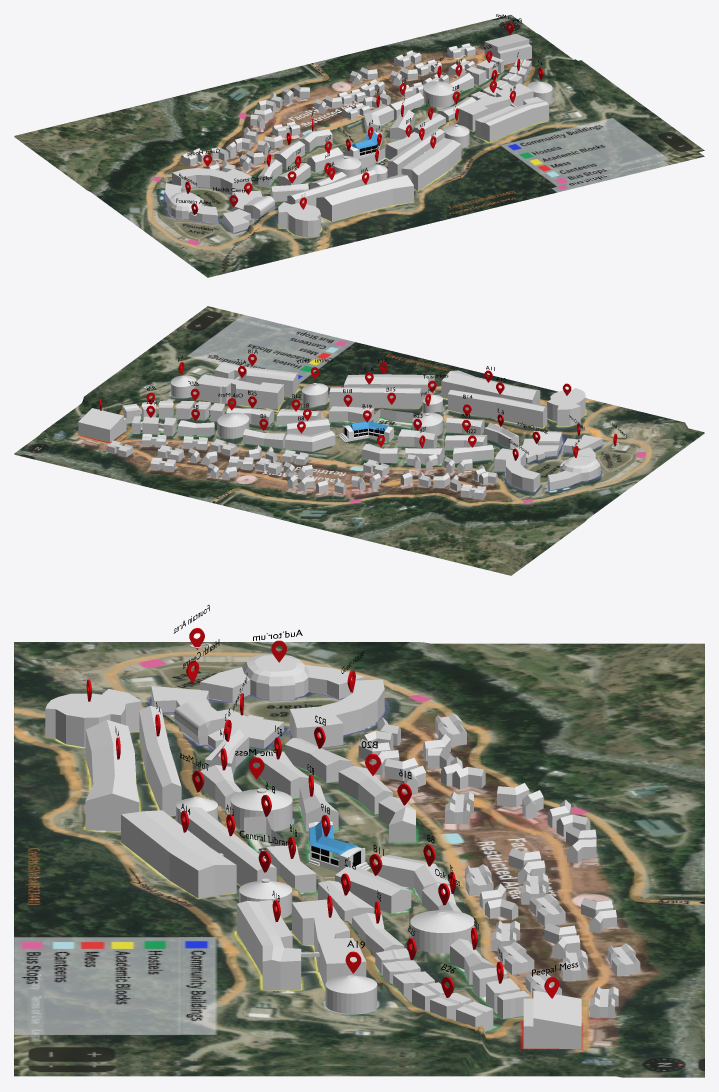
Rendered from mapMI.glb.
The picture shows the model from 3 angles, top to bottom: view 1: azimuth 30°, elevation 25°; view 2: azimuth 150°, elevation 25°; view 3: azimuth 270°, elevation 25°; orthographic projection. The views are drawn at different scales.
Visible parts, largest first — view 1: Dharti, Dharti.002, A17+A18, A11, A13 + A14, Guest House, Auditorium, A9, Peepal Mess, A10, Plane, Oak Mess (+15 smaller); view 2: Dharti, Dharti.002, A17+A18, A13 + A14, A10, A11, Auditorium, Peepal Mess, A9, Guest House, Plane, B19 (+22 smaller); view 3: Dharti, Dharti.002, A13 + A14, A17+A18, Auditorium, A11, Guest House, A9, Peepal Mess, Plane, A10, Oak Mess (+29 smaller).
Part boxes in pixels (bbox=[...]): Dharti: bbox=[14, 33, 704, 276]; Dharti.002: bbox=[14, 15, 704, 277]; A17+A18: bbox=[458, 83, 548, 141]; A11: bbox=[316, 174, 413, 221]; A13 + A14: bbox=[388, 128, 461, 190]; Guest House: bbox=[172, 168, 251, 195]; Auditorium: bbox=[165, 183, 217, 223]; A9: bbox=[278, 202, 320, 237]; Peepal Mess: bbox=[484, 34, 531, 64]; A10: bbox=[287, 169, 376, 206]; Plane: bbox=[234, 190, 274, 219]; Oak Mess: bbox=[423, 81, 454, 107]; Dharti: bbox=[14, 306, 704, 575]; Dharti.002: bbox=[14, 433, 704, 574]; A17+A18: bbox=[195, 362, 298, 409]; A13 + A14: bbox=[329, 374, 434, 408]; A10: bbox=[448, 390, 547, 427]; A11: bbox=[441, 370, 540, 405]; Auditorium: bbox=[548, 447, 600, 490]; Peepal Mess: bbox=[78, 408, 126, 442]; A9: bbox=[547, 388, 585, 426]; Guest House: bbox=[494, 448, 540, 491]; Plane: bbox=[512, 431, 562, 462]; B19: bbox=[339, 421, 393, 442]; Dharti: bbox=[14, 642, 704, 1077]; Dharti.002: bbox=[14, 643, 704, 1076]; A13 + A14: bbox=[121, 806, 276, 898]; A17+A18: bbox=[237, 899, 366, 990]; Auditorium: bbox=[200, 654, 364, 702]; A11: bbox=[85, 719, 139, 831]; Guest House: bbox=[289, 679, 384, 747]; A9: bbox=[45, 689, 141, 747]; Peepal Mess: bbox=[523, 990, 581, 1049]; Plane: bbox=[174, 701, 283, 748]; A10: bbox=[139, 705, 181, 815]; Oak Mess: bbox=[410, 910, 475, 953].
Size of the model in its own units: 625 by 63.61 by 422.
Materials: 6 (1 with a texture image).
